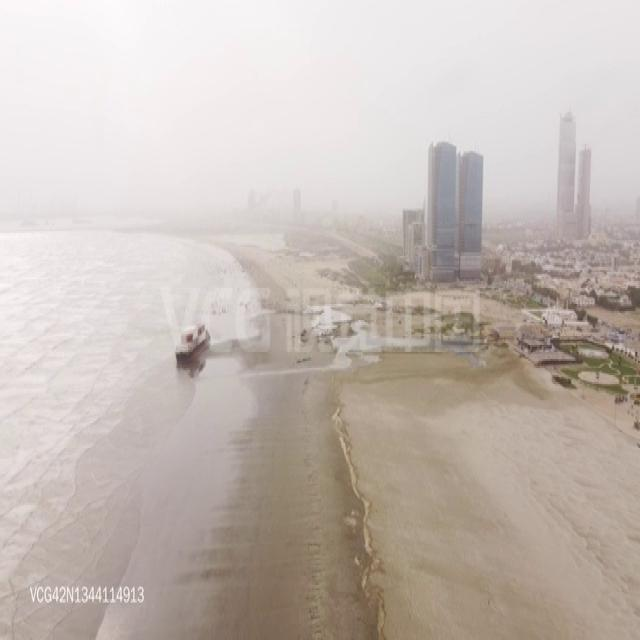cargoship: (176, 319, 212, 367)
